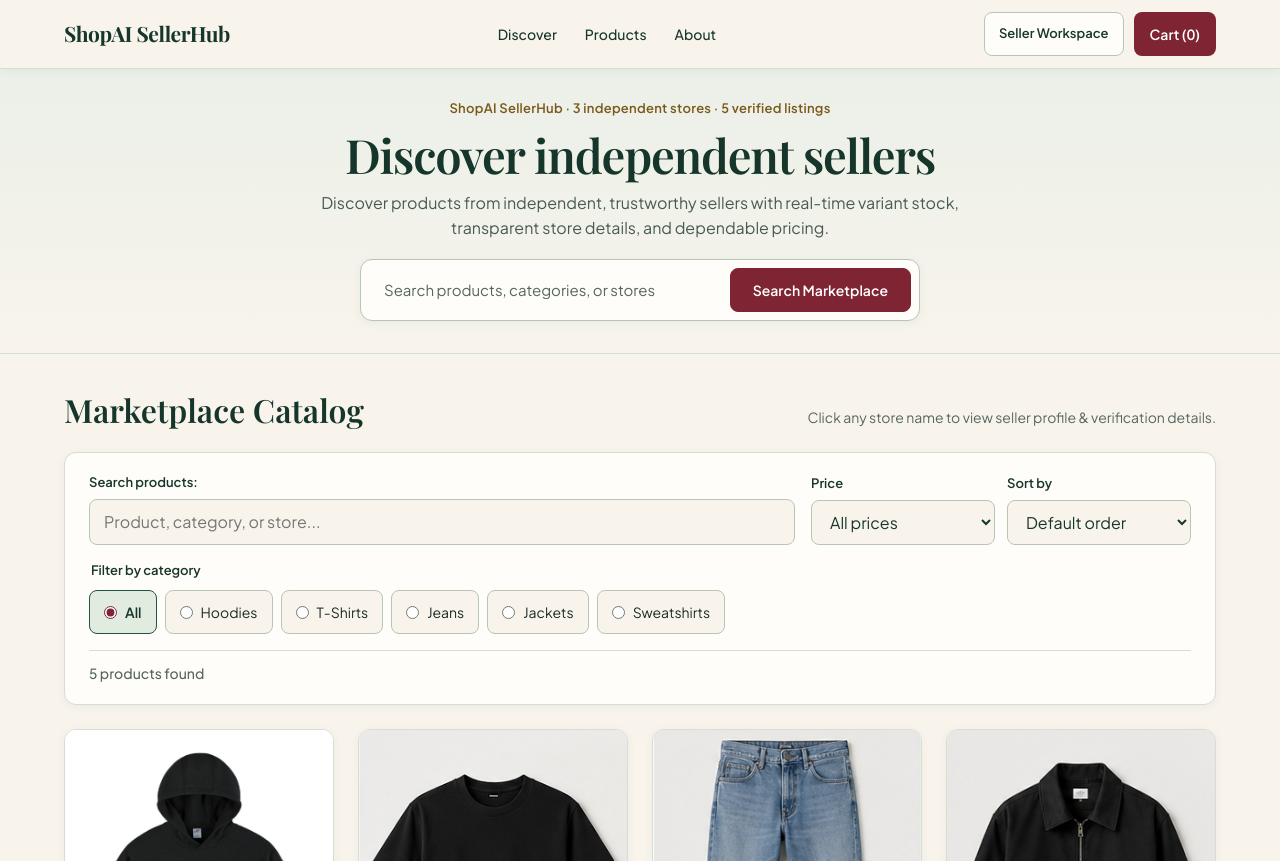
Test: Stage 1 catalog enhancements › filters products by seller store name from marketplace search
Type "Atelier North" into the search field labelled "Search products:" at (442, 522), box [89,499,795,545]
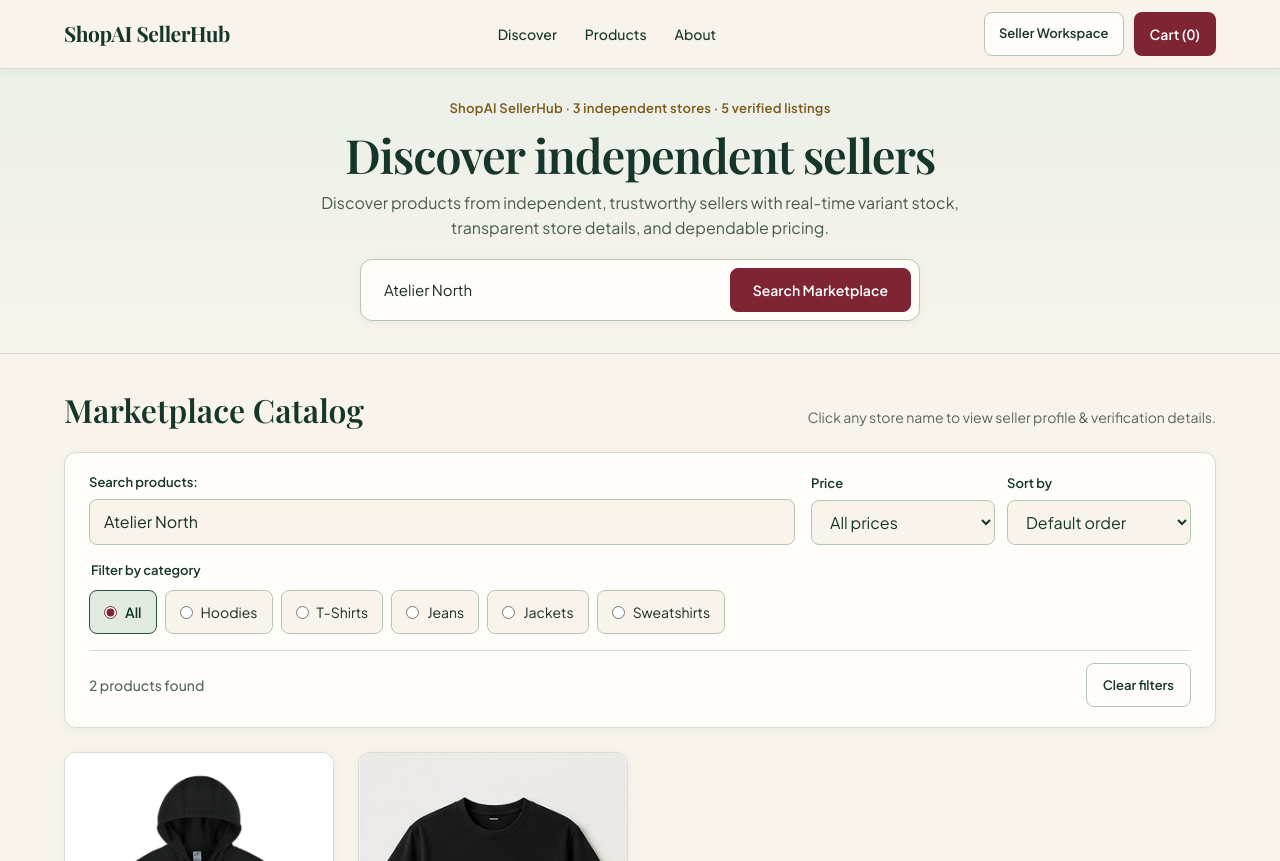
Check: the text "2 products found" is shown, box [89,675,204,696]
Replace the text in the search field labelled "Search products:" with "loom" at (442, 522), box [89,499,795,545]
(page scrolled)
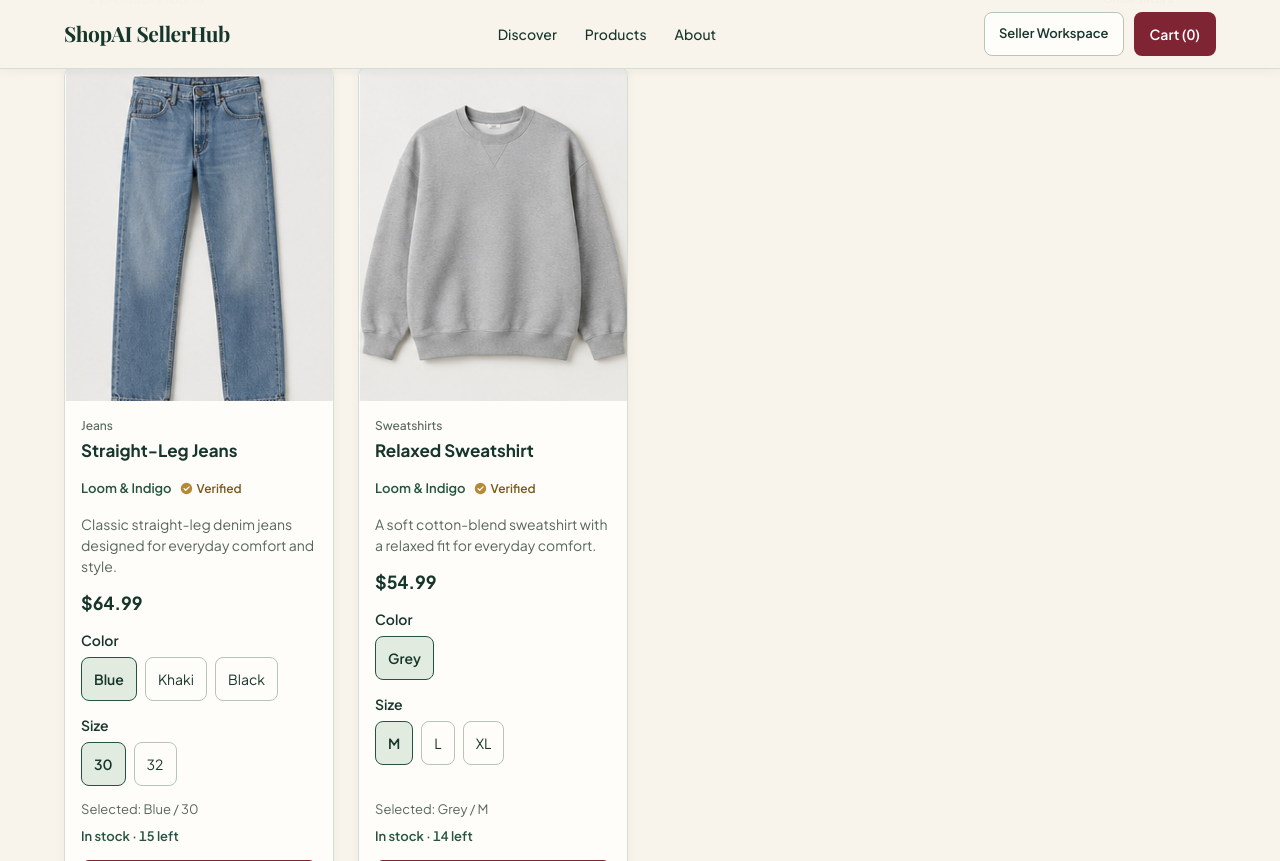
Check: the heading "Straight-Leg Jeans" is shown, box [81,440,237,462]
